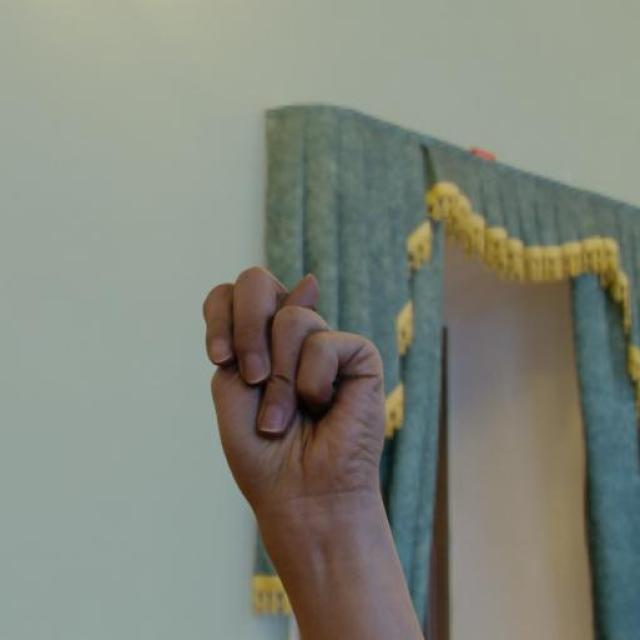N: (196, 264, 394, 515)
